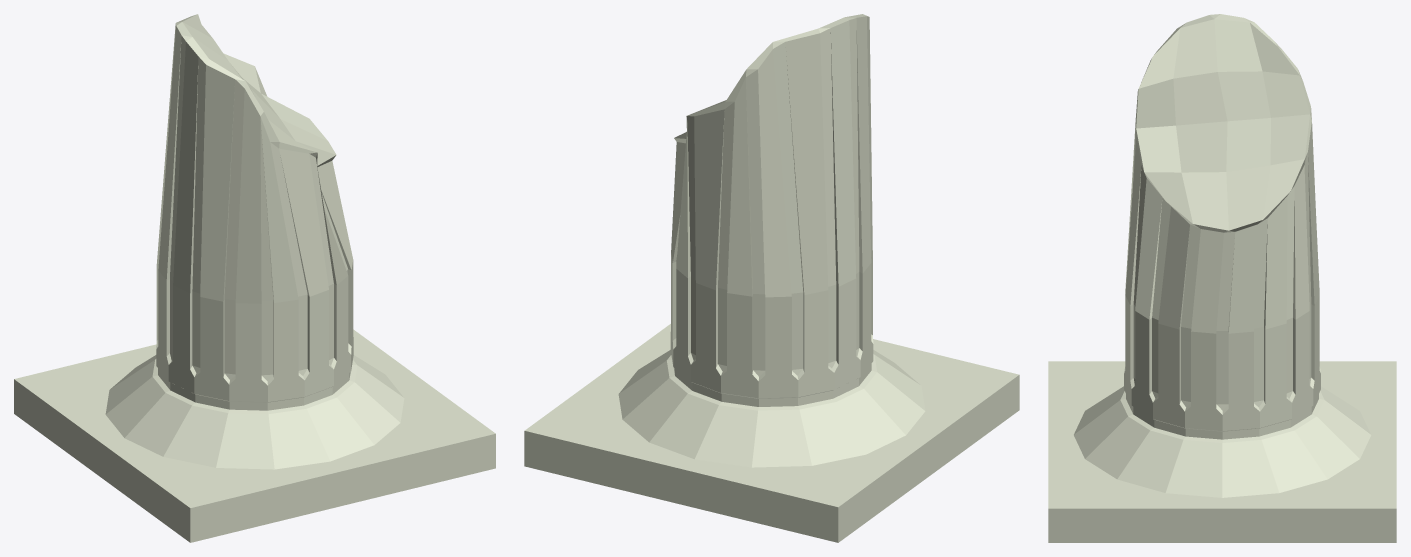
Rendered from greek_pillar_broken_2.fbx.
The picture shows the model from 3 angles, left to right: view 1: azimuth 30°, elevation 25°; view 2: azimuth 150°, elevation 25°; view 3: azimuth 270°, elevation 25°; orthographic projection. The views are drawn at different scales.
Parts seen in each view (by area): view 1: Cube; view 2: Cube; view 3: Cube.
Boxes of the visible parts, left/top/right/bottom form: Cube: left=14, top=14, right=495, bottom=542; Cube: left=524, top=14, right=1019, bottom=542; Cube: left=1048, top=14, right=1396, bottom=542.
Bounding box in the file's own units: 160 × 213 × 160.
